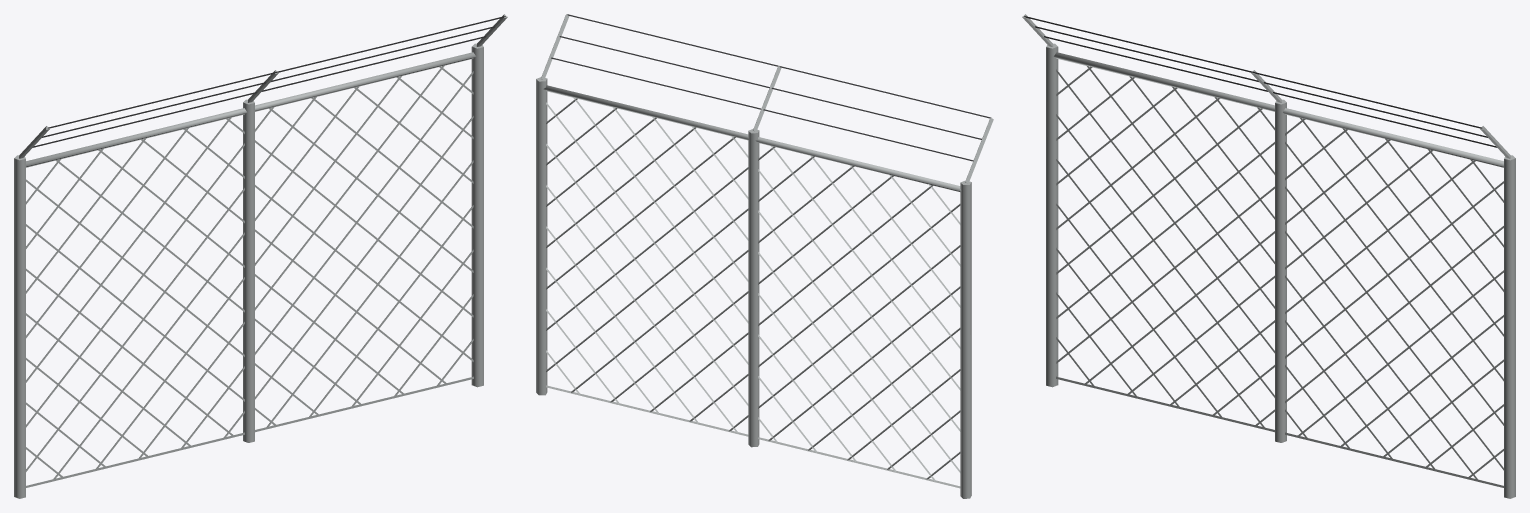
Rendered from chainlink_barbed.glb.
The picture shows the model from 3 angles, left to right: view 1: azimuth 30°, elevation 25°; view 2: azimuth 150°, elevation 25°; view 3: azimuth 330°, elevation 25°; orthographic projection. The views are drawn at different scales.
Parts seen in each view (by area): view 1: chainlink_barbed; view 2: chainlink_barbed; view 3: chainlink_barbed.
Part boxes in pixels (left/top/right/bottom): chainlink_barbed: left=14, top=14, right=507, bottom=498; chainlink_barbed: left=536, top=14, right=993, bottom=498; chainlink_barbed: left=1022, top=14, right=1515, bottom=498.
Size of the model in its own units: 2.97 by 2.36 by 0.3403.
1 material, 1 textured.
